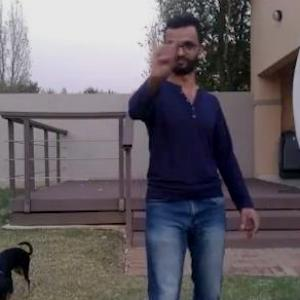takeoff-hand: (143, 25, 181, 74)
